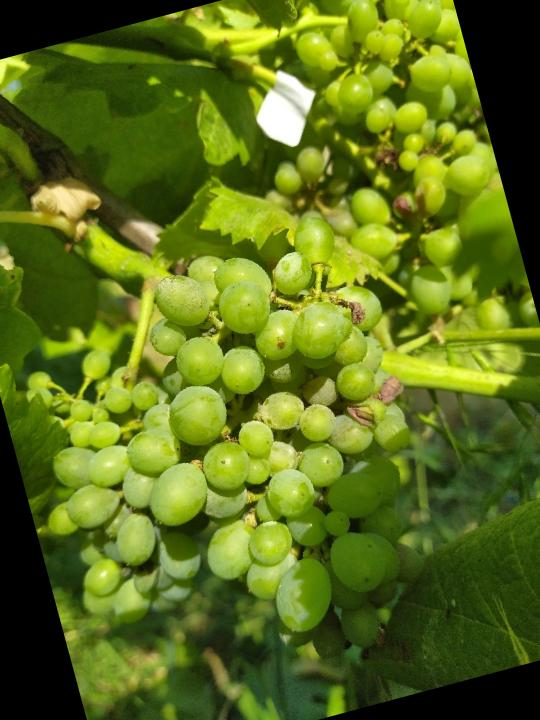grape: (0, 202, 472, 720)
